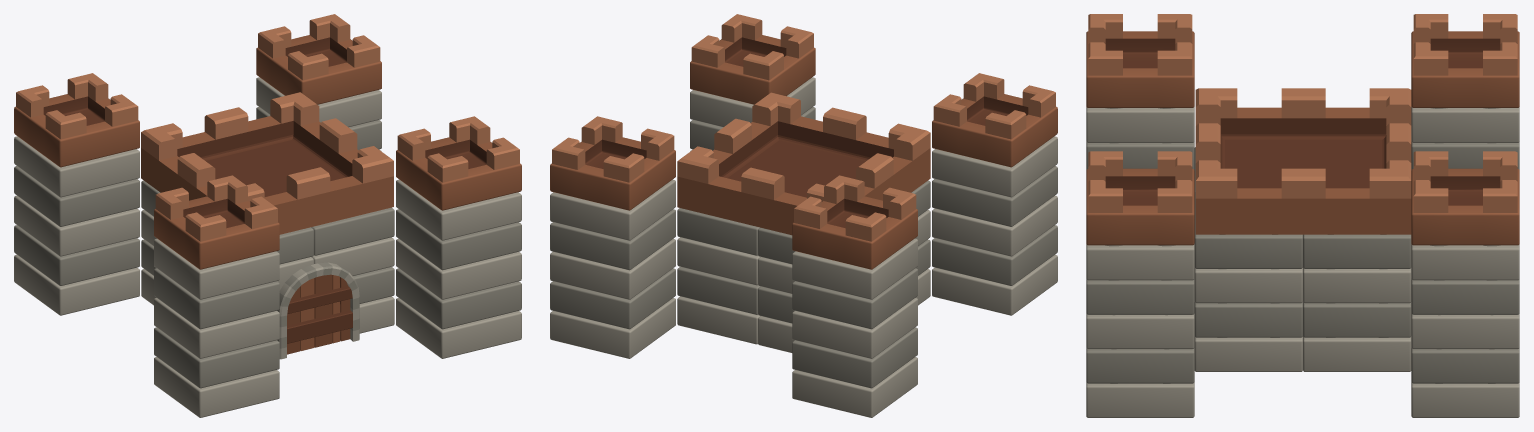
File: Castle.fbx
The picture shows the model from 3 angles, left to right: view 1: azimuth 30°, elevation 25°; view 2: azimuth 150°, elevation 25°; view 3: azimuth 270°, elevation 25°; orthographic projection. The views are drawn at different scales.
Visible parts, largest first — view 1: Castle, Gate42; view 2: Castle; view 3: Castle.
Part boxes in pixels (box(x1,y1,x2,y2)): Castle: box(14, 14, 521, 417); Gate42: box(277, 262, 359, 359); Castle: box(550, 14, 1057, 417); Castle: box(1086, 14, 1519, 417).
Bounding box in the file's own units: 800 × 455 × 800.
Materials: 1 (1 with a texture image).
